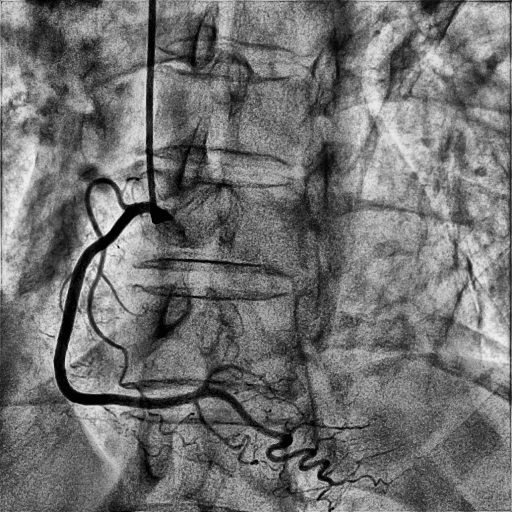pborca: (203, 364, 268, 386)
pda: (206, 387, 394, 486)
rca: (54, 202, 209, 410)
